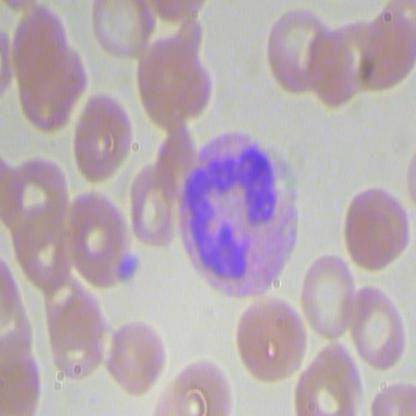Platelets: (118, 249, 142, 288)
RBC: (131, 33, 215, 134), (63, 186, 135, 295), (235, 291, 315, 385), (335, 184, 411, 276), (261, 1, 330, 98), (297, 251, 366, 347), (347, 279, 415, 376), (74, 93, 144, 185), (102, 320, 170, 399), (88, 1, 155, 61)
WBC: (177, 119, 307, 307)
